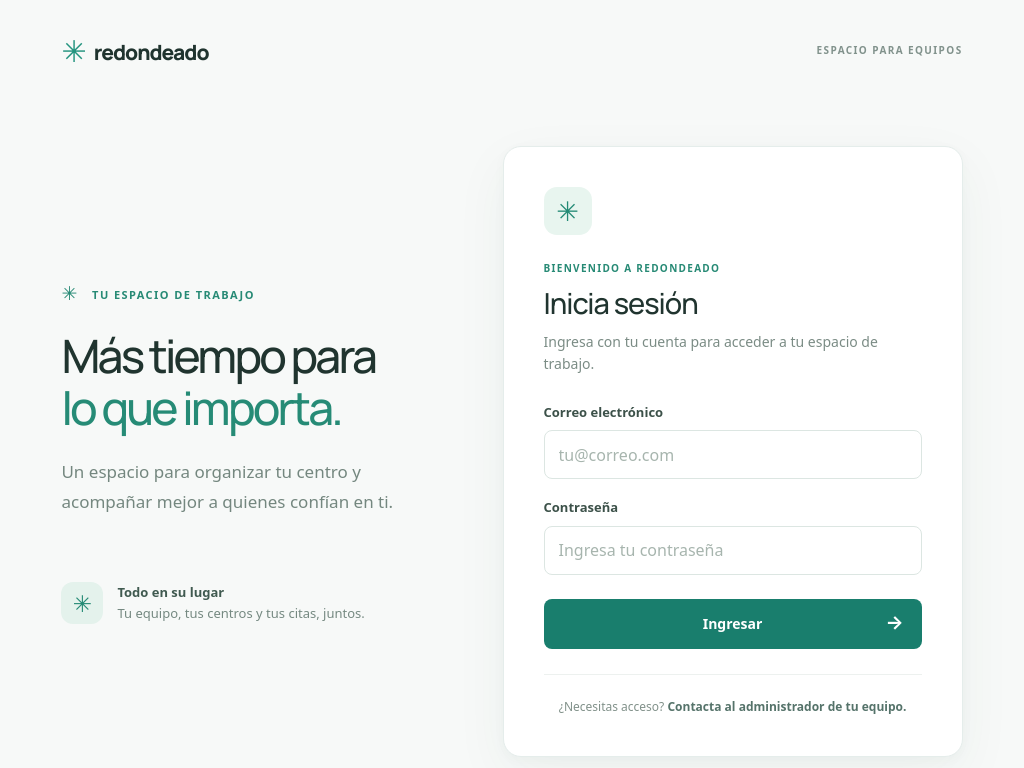
it: staff workspace through the screen › shows appointments for the selected calendar day
The width and height of the screenshot is (1024, 768).
In the field labelled "Correo electrónico": (732, 455) [544,430,922,479], type "member@example.com"
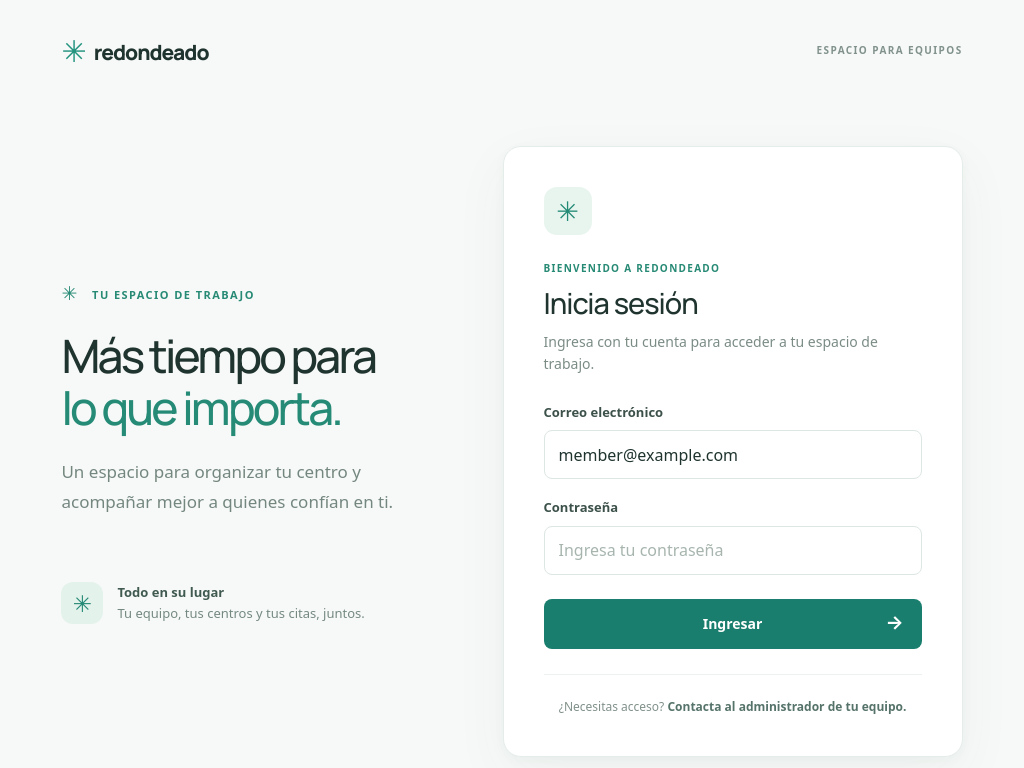
In the password field labelled "Contraseña": (732, 550) [544,526,922,575], type "password"
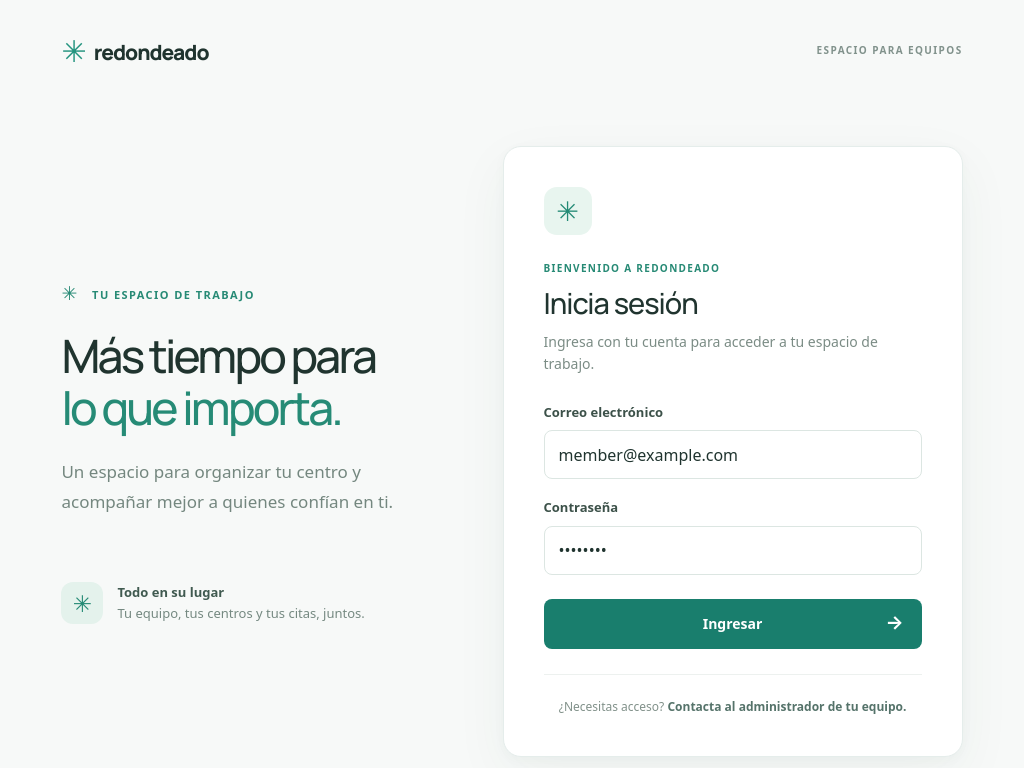
Click the button "Ingresar →": (732, 624) [544,599,922,649]
(page scrolled)
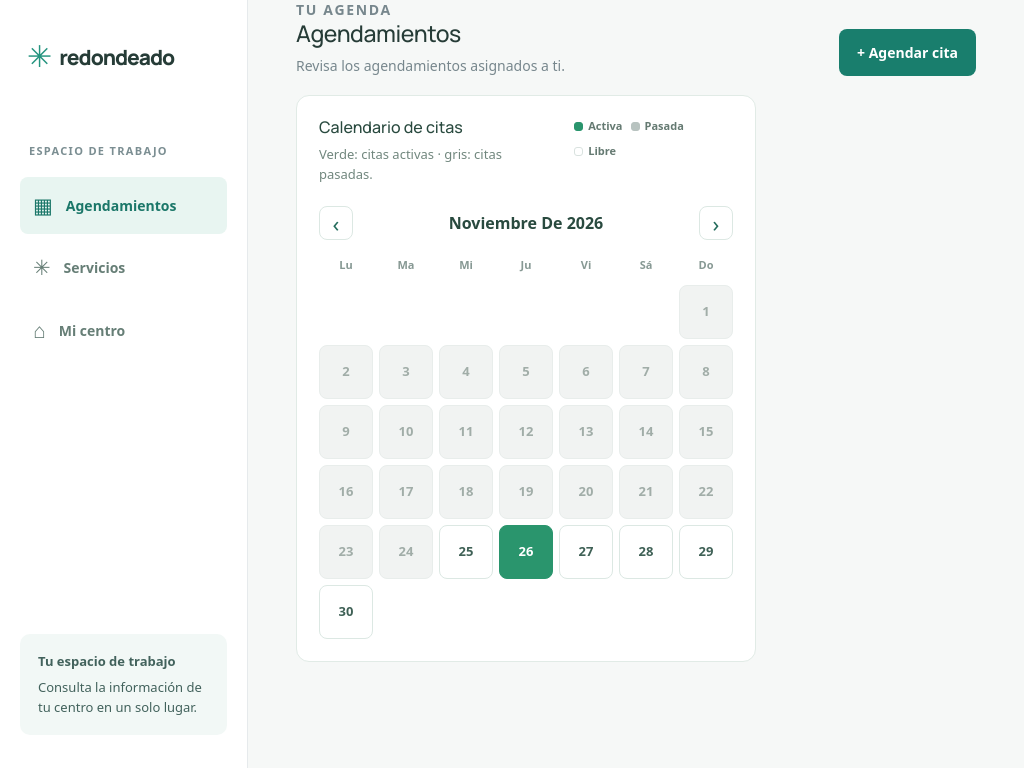
Result: the heading "Agendamientos" is shown at [296,17,461,49]
Click the button named "con citas activas": (526, 552) [499,525,553,579]
(page scrolled)
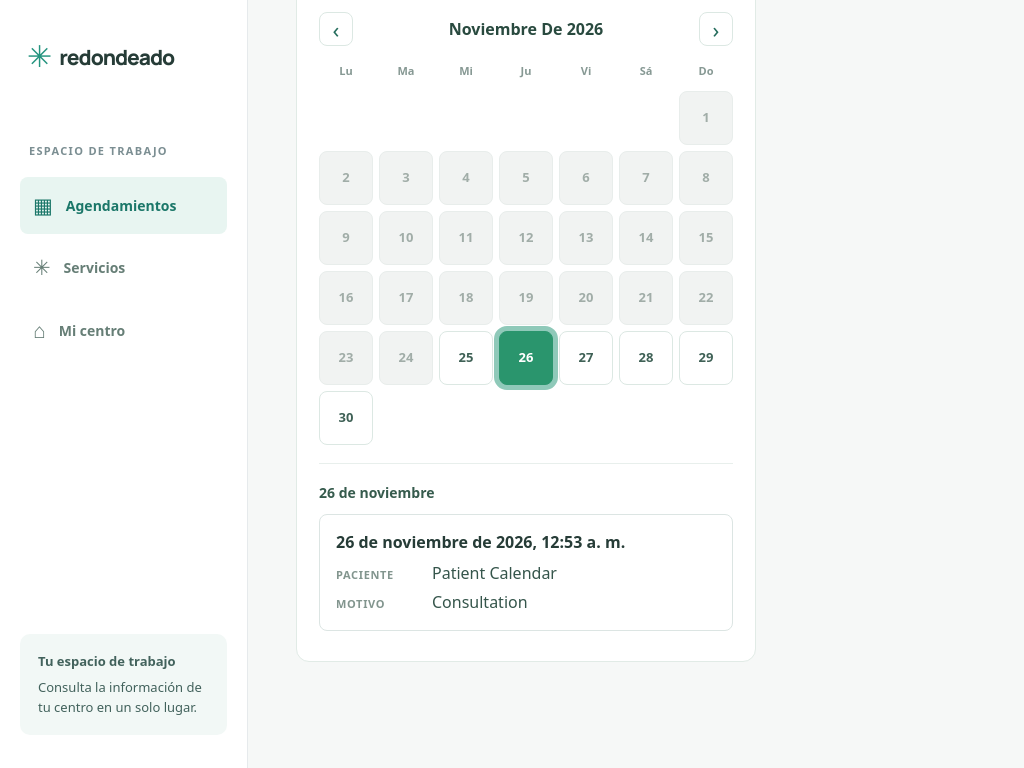
Result: the text "Paciente Patient Calendar" is shown at [336,562,557,584]
